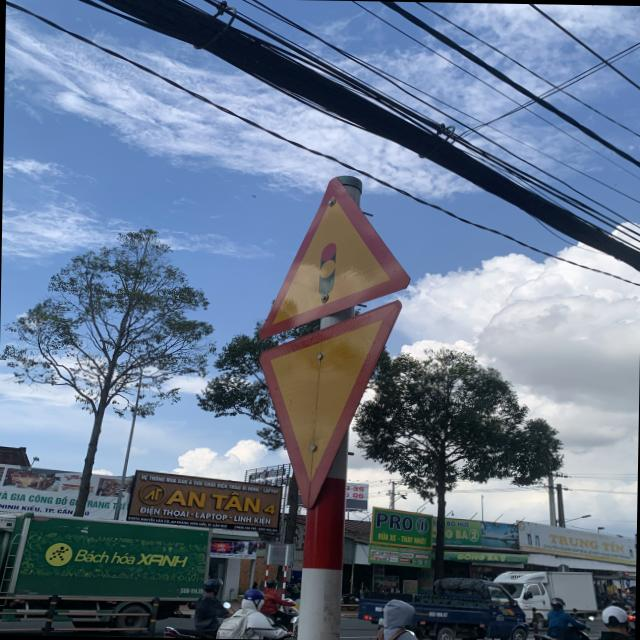Duong_Co_Go_Giam_Toc: (258, 178, 413, 338)
Gioi_Han_Toc_Do_25: (257, 296, 402, 512)
